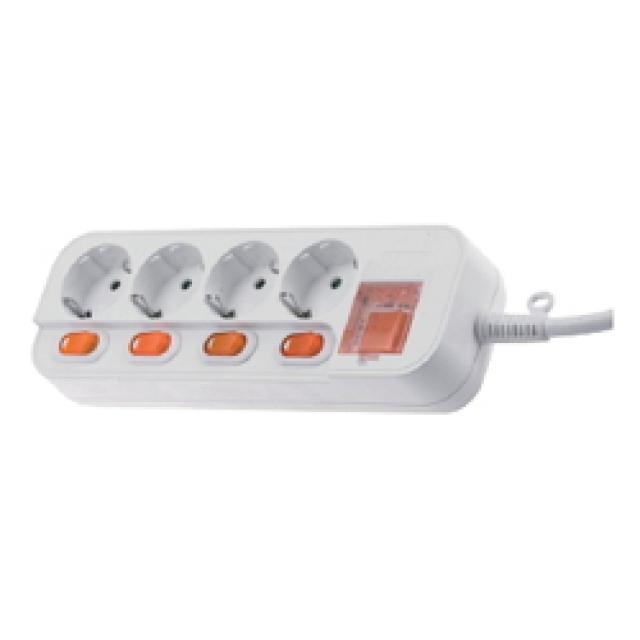typeb: (14, 192, 614, 496)
